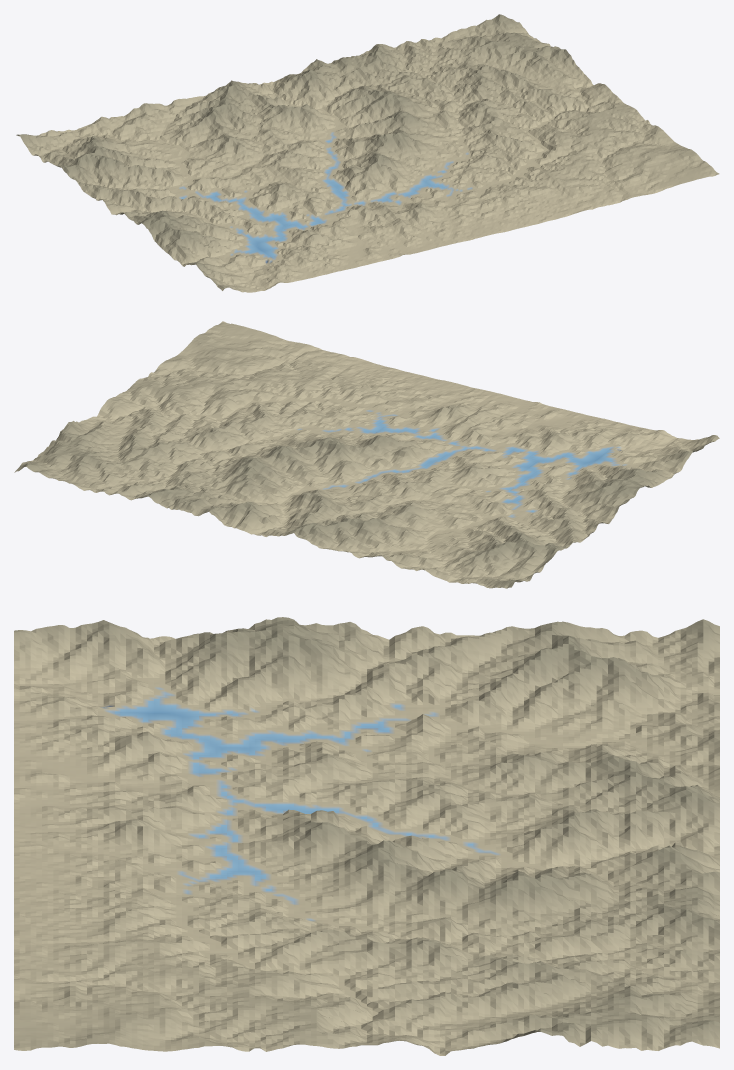
The model's file is shasta_lake_ca.glb.
3 renders of one model, top to bottom at view 1: azimuth 30°, elevation 25°; view 2: azimuth 150°, elevation 25°; view 3: azimuth 270°, elevation 25°, orthographic. The views are drawn at different scales.
Parts seen in each view (by area): view 1: terrain, water; view 2: terrain, water; view 3: terrain, water.
Part boxes in pixels (x1,y1,x2,y2): terrain: (16,14,719,292); water: (181,141,446,257); terrain: (14,321,719,588); water: (342,420,612,511); terrain: (14,617,719,1055); water: (115,699,472,890).
Bounding box in the file's own units: 41899 × 1724 × 30421.
